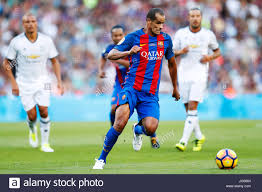soccer player: (97, 8, 179, 176), (3, 14, 64, 157), (171, 9, 218, 153)
soccerball: (214, 147, 239, 171)
